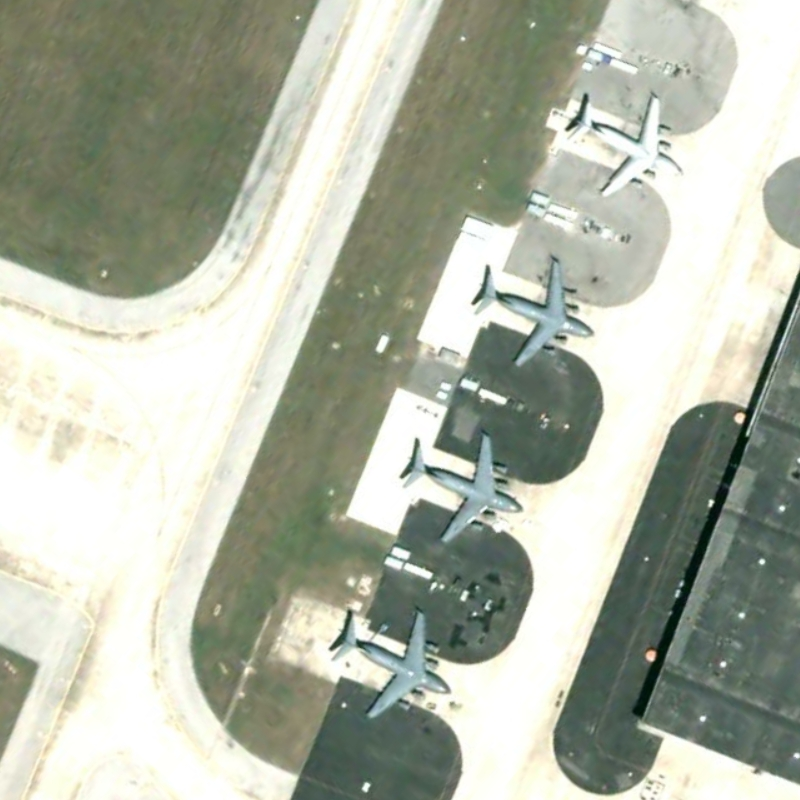A3: (387, 423, 530, 549), (549, 79, 693, 200), (326, 600, 463, 724), (470, 247, 604, 372)
